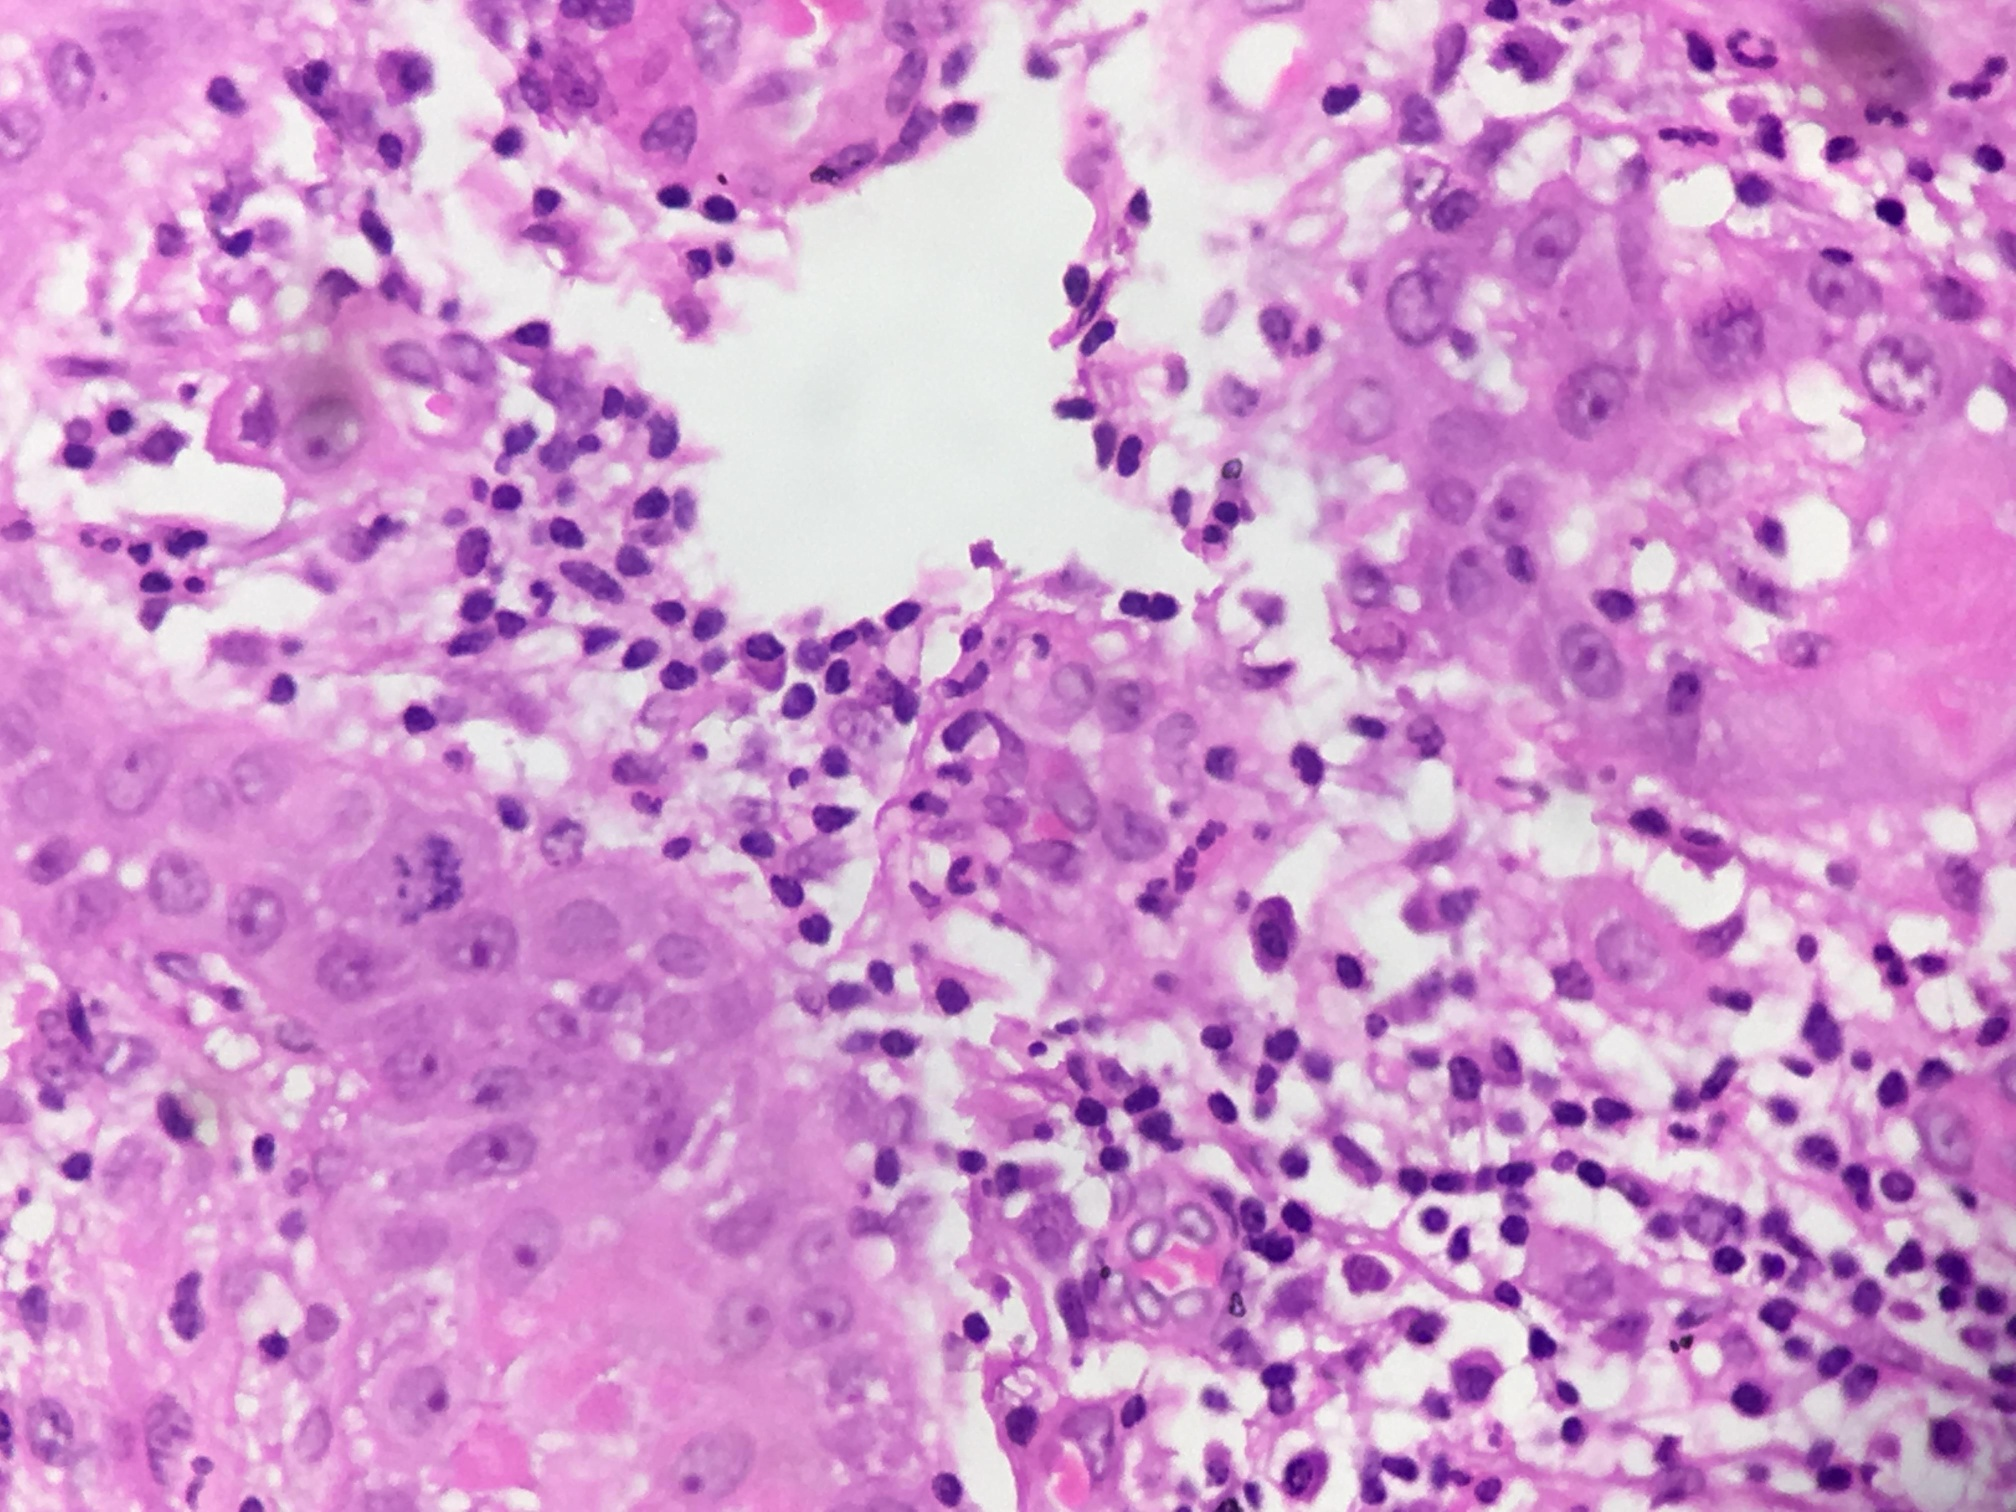mitotic: (311, 754, 516, 977)
